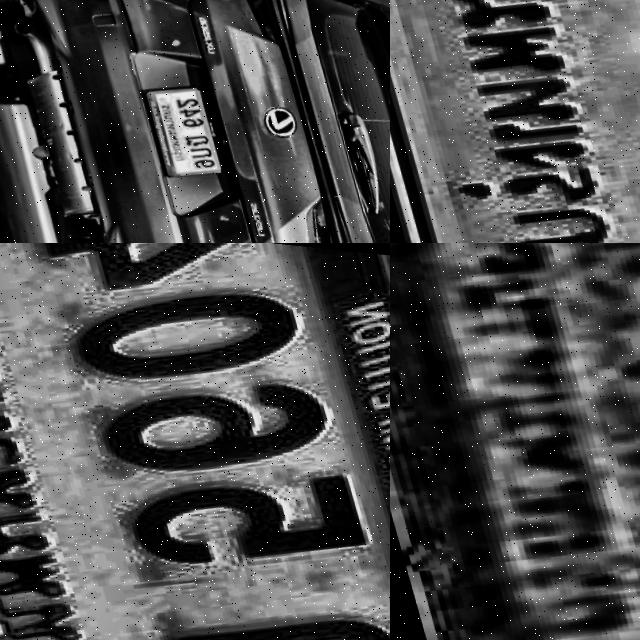license-plate: (0, 243, 390, 640), (390, 243, 640, 640), (390, 0, 640, 243), (139, 71, 226, 177)
